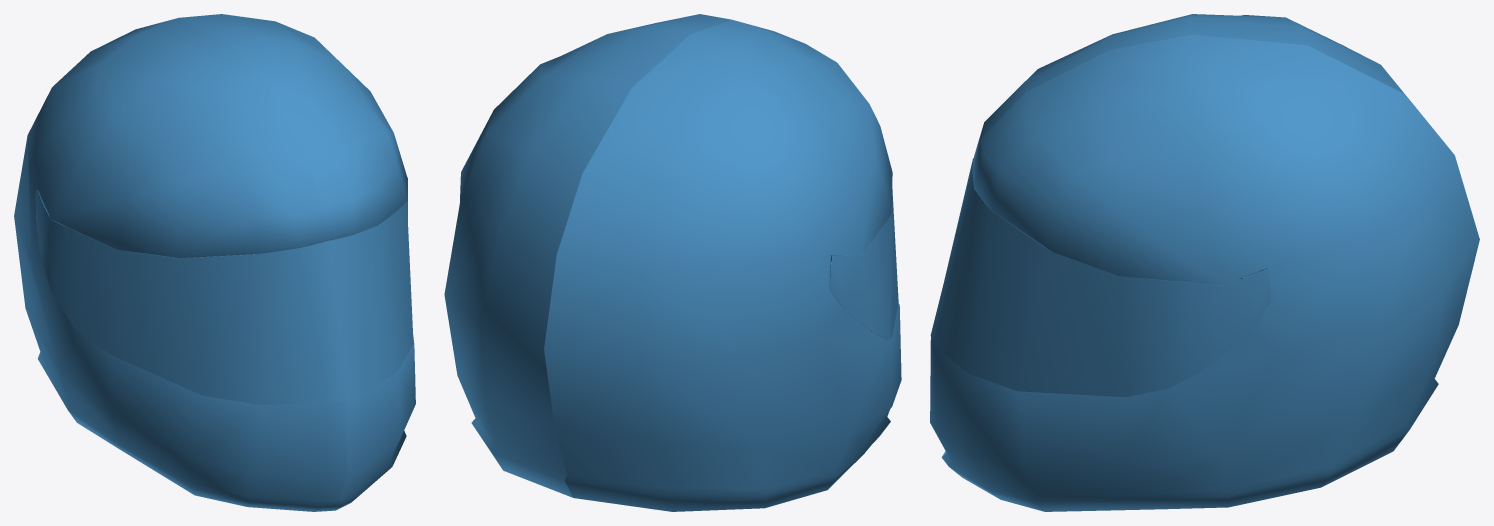
The model's file is Driver_Helmet.fbx.
3 views of the same model, side by side, from view 1: azimuth 30°, elevation 25°; view 2: azimuth 150°, elevation 25°; view 3: azimuth 270°, elevation 25° (orthographic). The views are drawn at different scales.
Visible parts, largest first — view 1: Driver_Helmet; view 2: Driver_Helmet; view 3: Driver_Helmet.
Part boxes in pixels (box(x1,y1,x2,y2)): Driver_Helmet: box(14, 14, 415, 511); Driver_Helmet: box(444, 14, 901, 511); Driver_Helmet: box(930, 14, 1479, 511).
Bounding box in the file's own units: 25.52 × 28.23 × 32.08.
